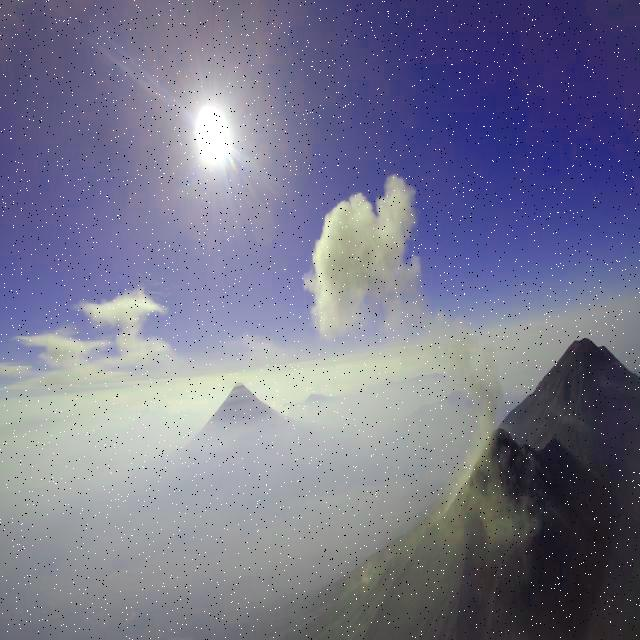Plume: (300, 168, 428, 349), (452, 328, 504, 420)
Summit: (461, 426, 582, 491)
